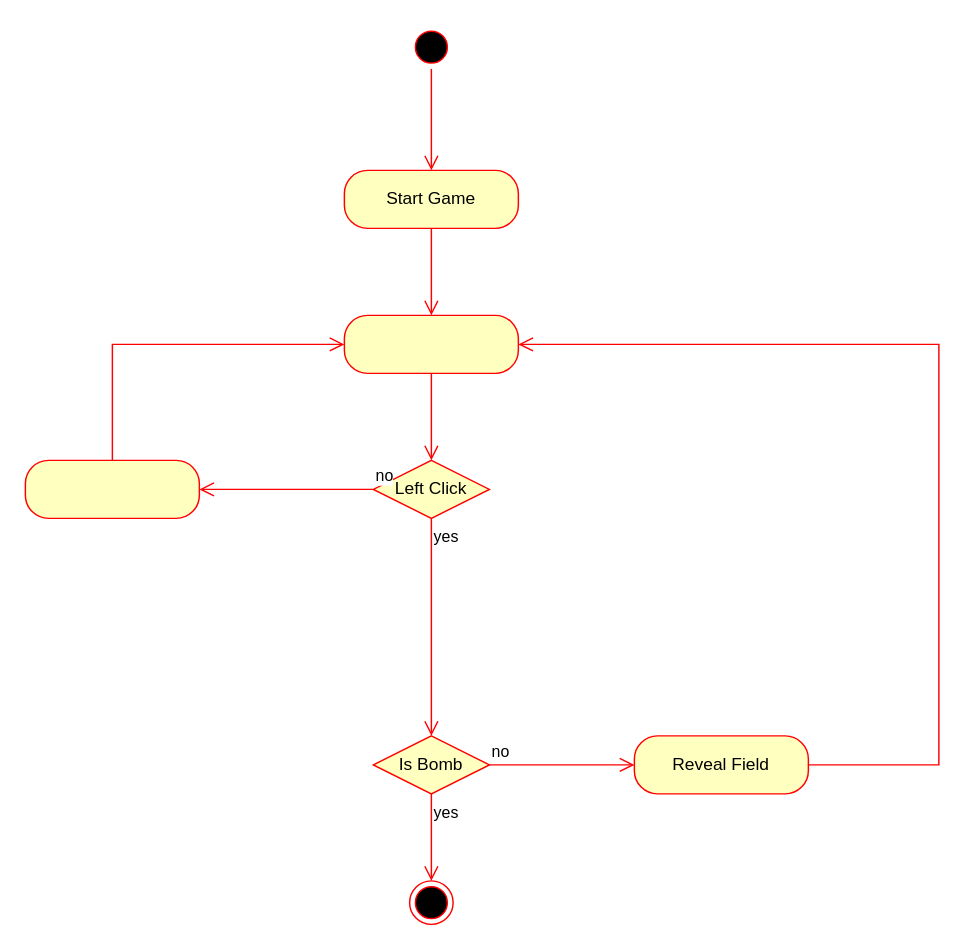
This 979x950 diagram has some shape labels left out. Here are the shapes that lost their labels. From the top down, the box of each, then its label:
(343, 314, 518, 373): Click a Field
(24, 459, 199, 518): Flag Field
